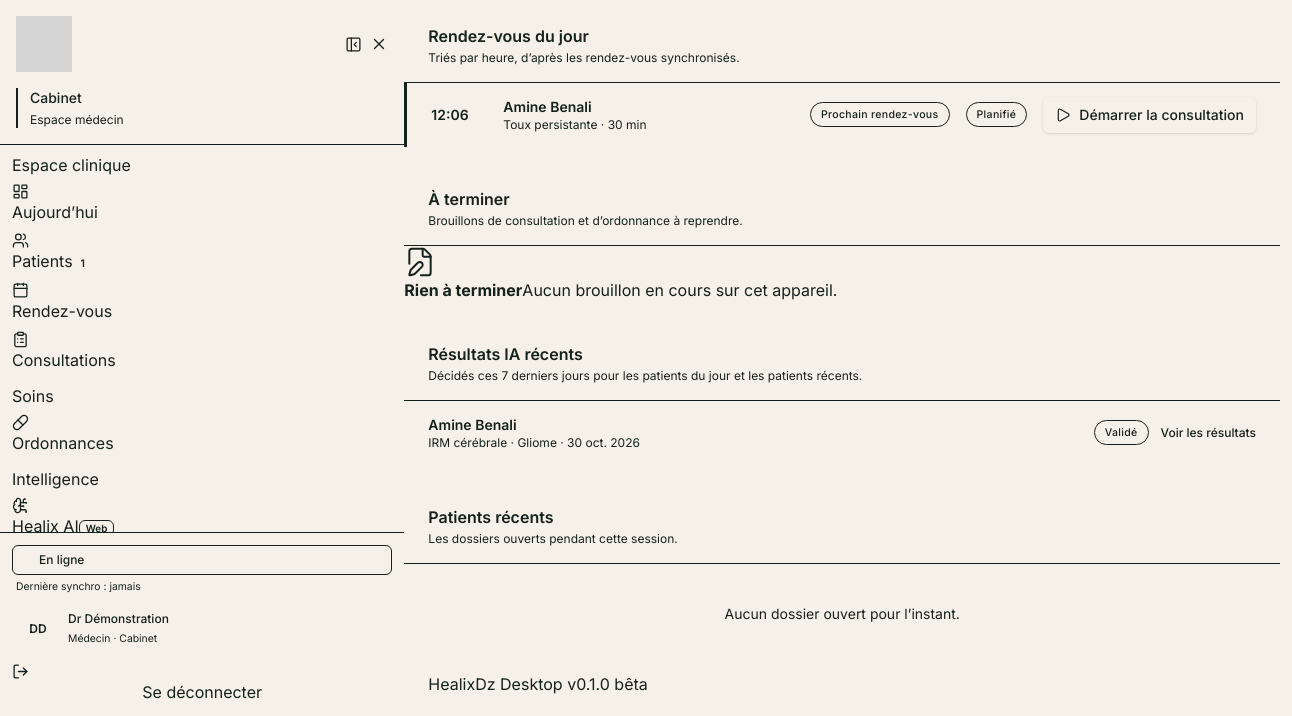
Scenario: App routing › leads from the home page to the Analyses IA tab of the record, where the result is read
(page scrolled)
Click the button "Amine Benali": click(472, 424) [404,401,1280,465]
(page scrolled)
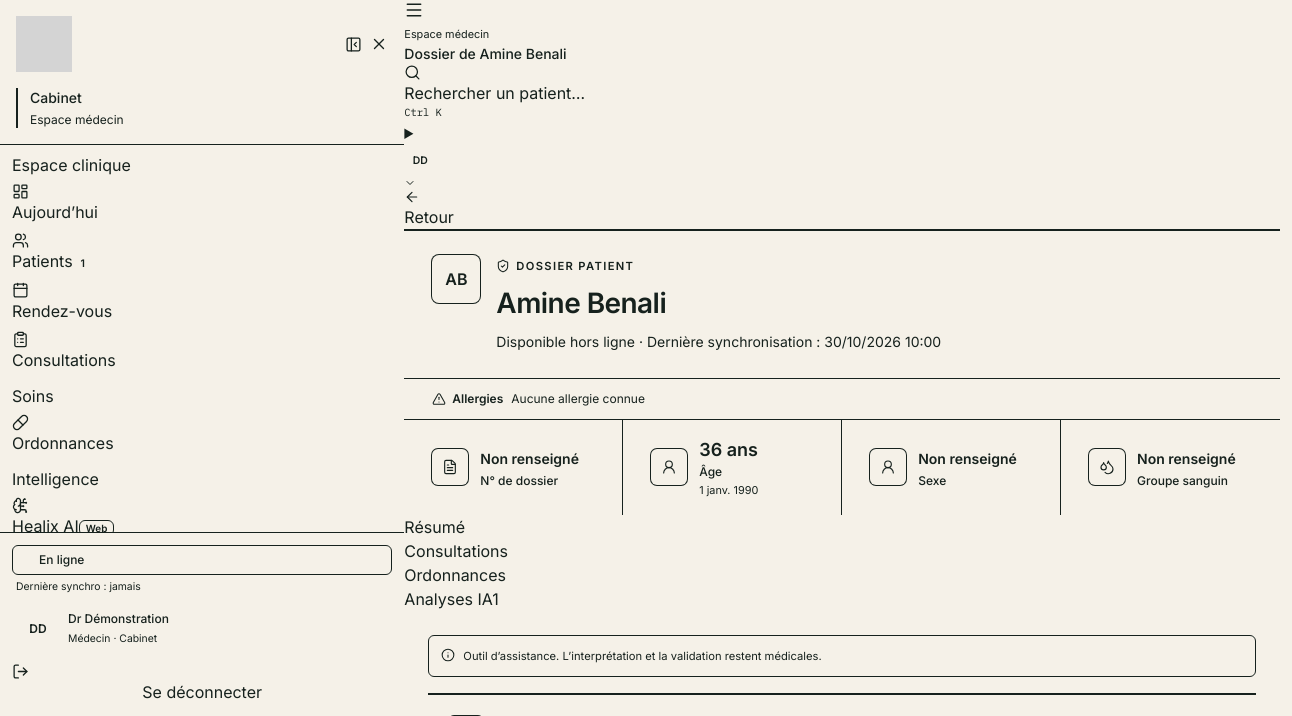
Now the heading "Amine Benali" is shown, box [496,286,666,320]
